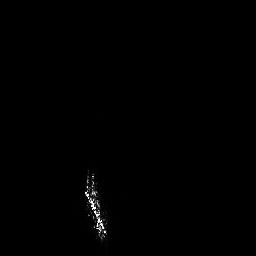ship: (83, 167, 109, 244)
